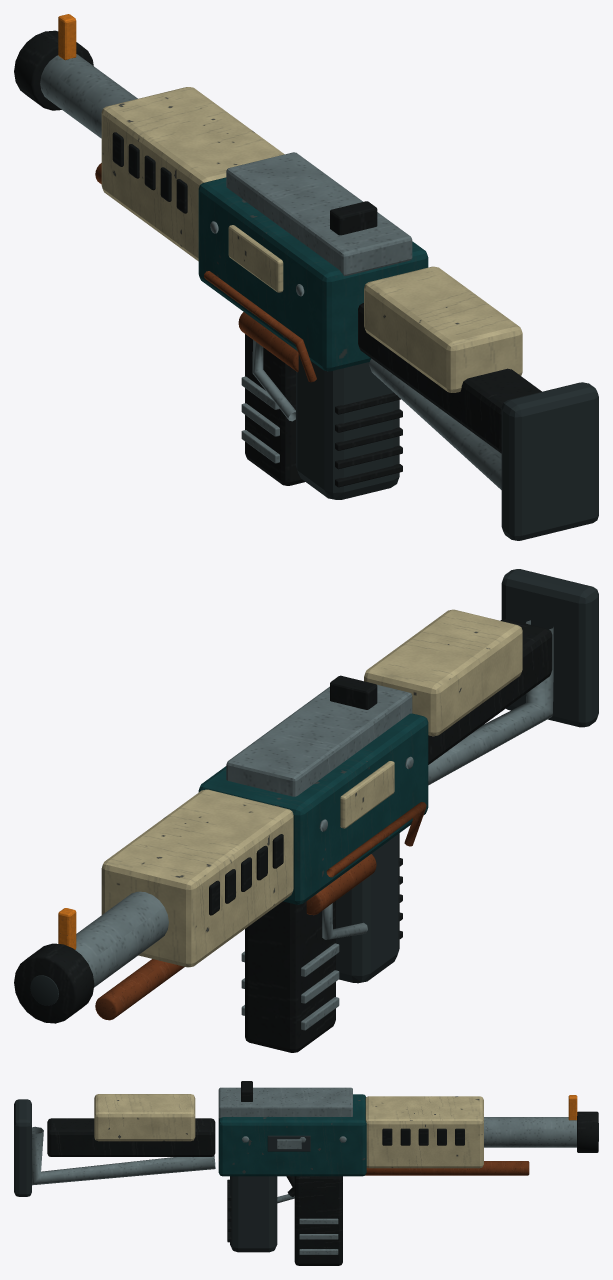
Rendered from service-rifle.glb.
3 views of the same model, one above another, from view 1: azimuth 30°, elevation 25°; view 2: azimuth 150°, elevation 25°; view 3: azimuth 270°, elevation 25° (orthographic). The views are drawn at different scales.
Visible parts, largest first — view 1: Fitter Aged ivory enamel, Fitter Black rubber and ink, Fitter Machined steel, Fitter Cast graphite iron, Fitter Petrol enamel, Fitter Copper ink plumbing, Fitter Warning ochre; view 2: Fitter Aged ivory enamel, Fitter Cast graphite iron, Fitter Machined steel, Fitter Black rubber and ink, Fitter Petrol enamel, Fitter Copper ink plumbing, Fitter Warning ochre; view 3: Fitter Aged ivory enamel, Fitter Machined steel, Fitter Cast graphite iron, Fitter Petrol enamel, Fitter Black rubber and ink, Fitter Copper ink plumbing.
Boxes of the visible parts, left/top/right/bottom form: Fitter Aged ivory enamel: left=101, top=87, right=522, bottom=392; Fitter Black rubber and ink: left=296, top=351, right=598, bottom=540; Fitter Machined steel: left=40, top=54, right=501, bottom=489; Fitter Cast graphite iron: left=14, top=30, right=541, bottom=487; Fitter Petrol enamel: left=198, top=177, right=428, bottom=371; Fitter Copper ink plumbing: left=95, top=163, right=316, bottom=382; Fitter Warning ochre: left=58, top=14, right=76, bottom=60; Fitter Aged ivory enamel: left=101, top=609, right=522, bottom=967; Fitter Cast graphite iron: left=14, top=619, right=552, bottom=1052; Fitter Machined steel: left=75, top=620, right=553, bottom=1030; Fitter Black rubber and ink: left=30, top=569, right=598, bottom=1005; Fitter Petrol enamel: left=198, top=713, right=428, bottom=904; Fitter Copper ink plumbing: left=95, top=802, right=426, bottom=1020; Fitter Warning ochre: left=58, top=908, right=76, bottom=949; Fitter Aged ivory enamel: left=94, top=1094, right=483, bottom=1168; Fitter Machined steel: left=32, top=1087, right=576, bottom=1254; Fitter Cast graphite iron: left=47, top=1081, right=598, bottom=1265; Fitter Petrol enamel: left=218, top=1094, right=366, bottom=1176; Fitter Black rubber and ink: left=14, top=1099, right=598, bottom=1252; Fitter Copper ink plumbing: left=365, top=1161, right=529, bottom=1175.
Size of the model in its own units: 0.1208 by 0.2855 by 0.8702.
Materials: 7 (6 with a texture image).
